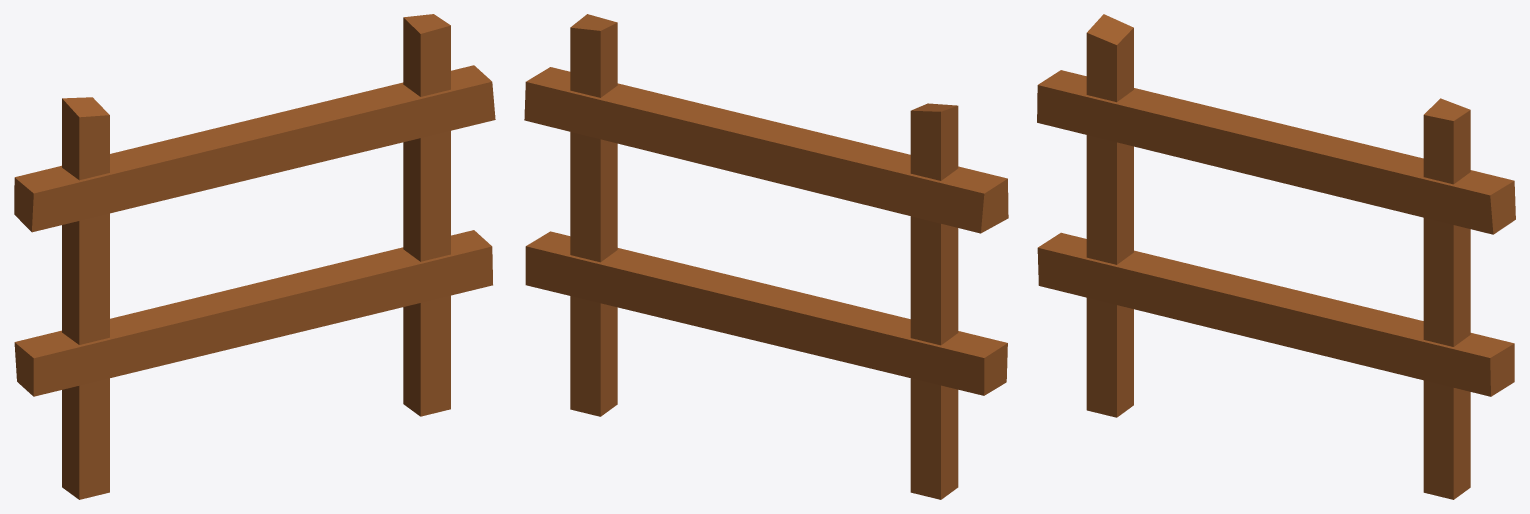
Rendered from woodenFenceLow.fbx.
3 views of the same model, side by side, from view 1: azimuth 30°, elevation 25°; view 2: azimuth 150°, elevation 25°; view 3: azimuth 330°, elevation 25° (orthographic).
Visible parts, largest first — view 1: fence; view 2: fence; view 3: fence.
Part boxes in pixels (x1,y1,x2,y2): fence: (14, 14, 495, 499); fence: (524, 14, 1008, 499); fence: (1037, 14, 1515, 499).
Bounding box in the file's own units: 125 × 100 × 10.84.
